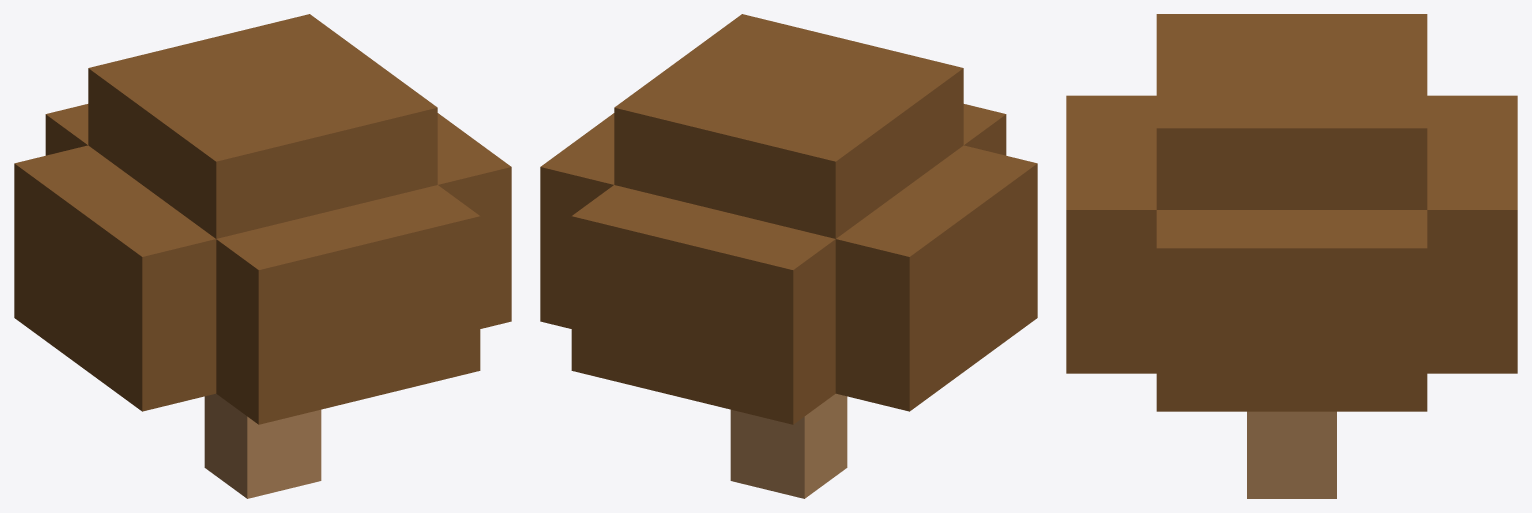
File: Mushroom_3.fbx
The picture shows the model from 3 angles, left to right: view 1: azimuth 30°, elevation 25°; view 2: azimuth 150°, elevation 25°; view 3: azimuth 270°, elevation 25°; orthographic projection. The views are drawn at different scales.
Parts seen in each view (by area): view 1: Mushroom_3; view 2: Mushroom_3; view 3: Mushroom_3.
Part boxes in pixels (x1,y1,x2,y2): Mushroom_3: [14, 14, 511, 498]; Mushroom_3: [540, 14, 1037, 498]; Mushroom_3: [1066, 14, 1517, 498].
Bounding box in the file's own units: 500 × 500 × 500.
